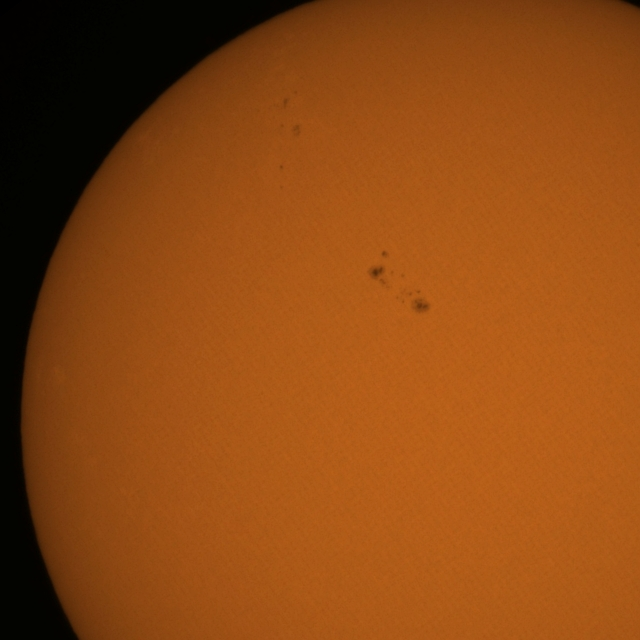sunspot: (365, 261, 418, 303), (368, 255, 407, 289), (394, 287, 430, 315), (280, 122, 302, 137), (380, 250, 389, 259), (278, 164, 284, 171)
